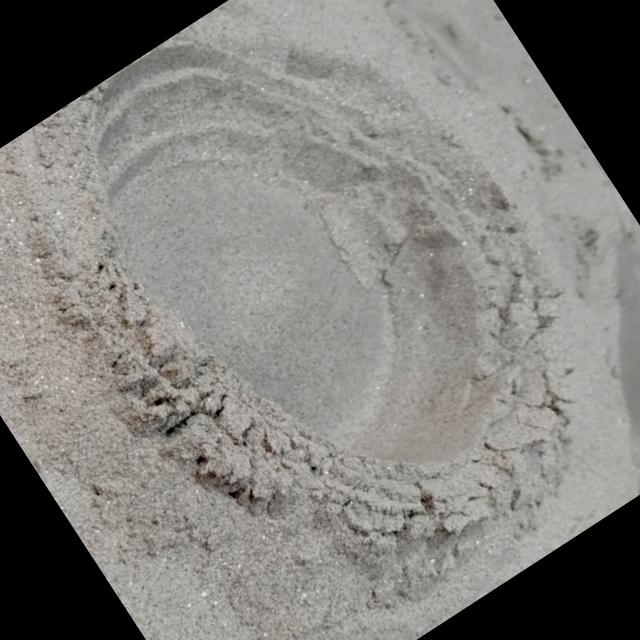C20: (96, 44, 556, 462)
